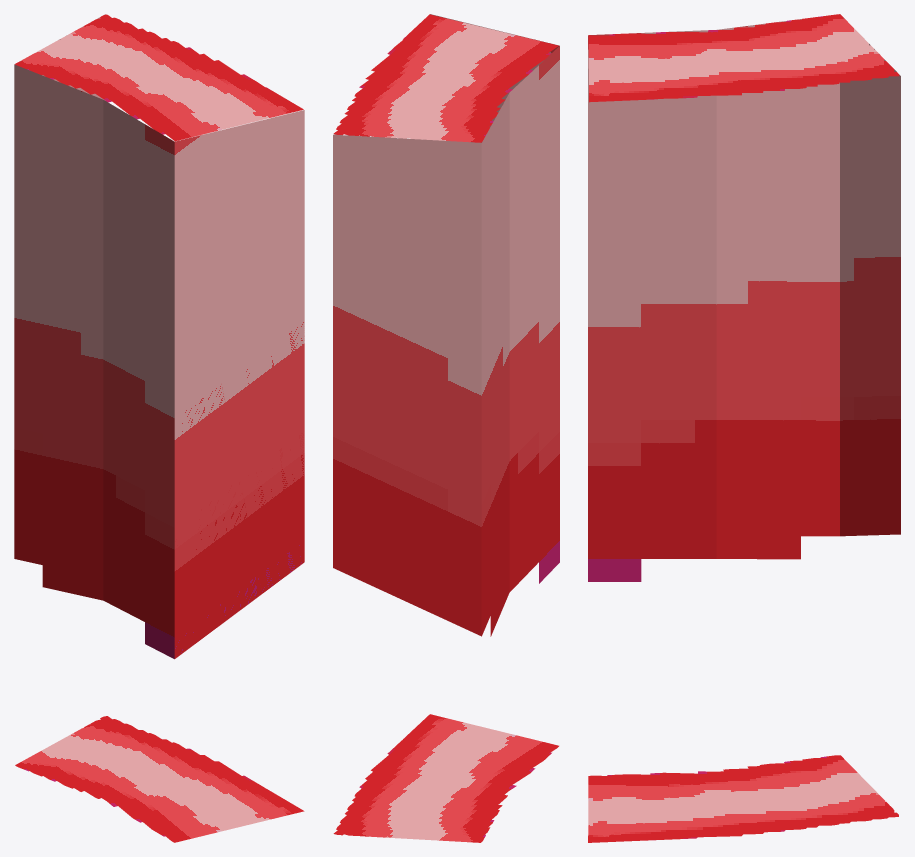
File: 16red.fbx
The picture shows the model from 3 angles, left to right: view 1: azimuth 30°, elevation 25°; view 2: azimuth 150°, elevation 25°; view 3: azimuth 270°, elevation 25°; orthographic projection. The views are drawn at different scales.
Visible parts, largest first — view 1: Cylinder; view 2: Cylinder; view 3: Cylinder.
Part boxes in pixels (box(x1,y1,x2,y2)): Cylinder: box(14, 14, 304, 842); Cylinder: box(333, 14, 559, 842); Cylinder: box(588, 14, 900, 842).
Bounding box in the file's own units: 25.55 × 100 × 38.27.
Materials: 1 (1 with a texture image).
